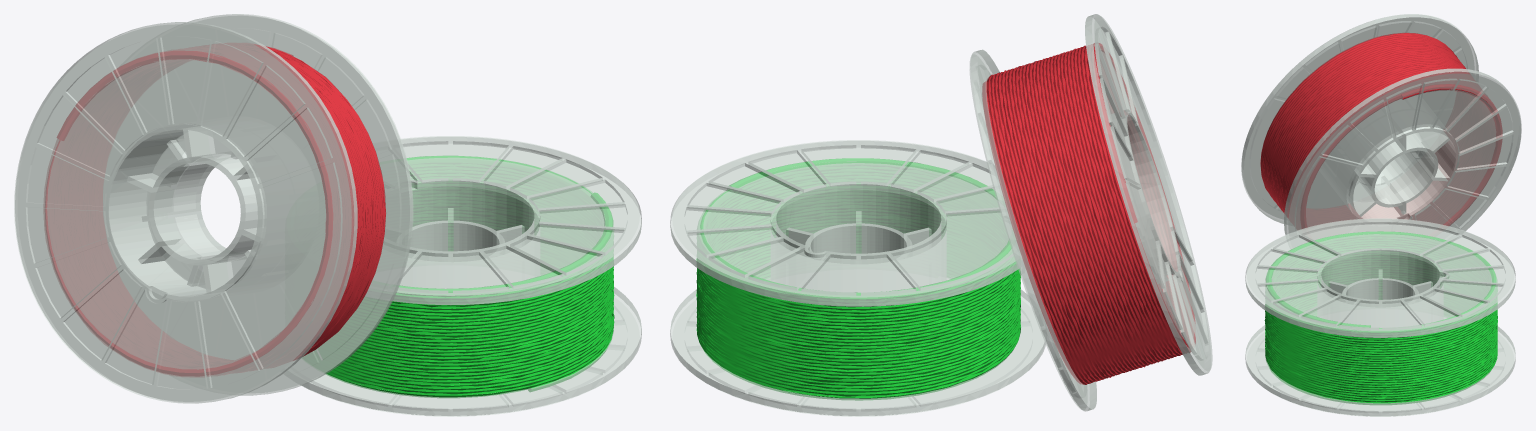
Rendered from MaterialsRG.fbx.
3 views of the same model, side by side, from view 1: azimuth 30°, elevation 25°; view 2: azimuth 150°, elevation 25°; view 3: azimuth 270°, elevation 25° (orthographic). The views are drawn at different scales.
Visible parts, largest first — view 1: катушка, катушка.002, пластик на катушке.002, пластик на катушке; view 2: катушка.002, пластик на катушке.002, пластик на катушке, катушка; view 3: катушка, катушка.002, пластик на катушке.002, пластик на катушке.
Part boxes in pixels (x1,y1,x2,y2): катушка: (14,14,413,403); катушка.002: (300,136,641,416); пластик на катушке.002: (303,156,614,397); пластик на катушке: (44,43,385,376); катушка.002: (670,140,1045,416); пластик на катушке.002: (696,158,1020,400); пластик на катушке: (982,43,1195,384); катушка: (969,14,1212,411); катушка: (1241,14,1521,236); катушка.002: (1245,218,1515,416); пластик на катушке.002: (1264,231,1497,404); пластик на катушке: (1260,33,1502,229).
Bounding box in the file's own units: 33.01 × 21.31 × 20.81.
